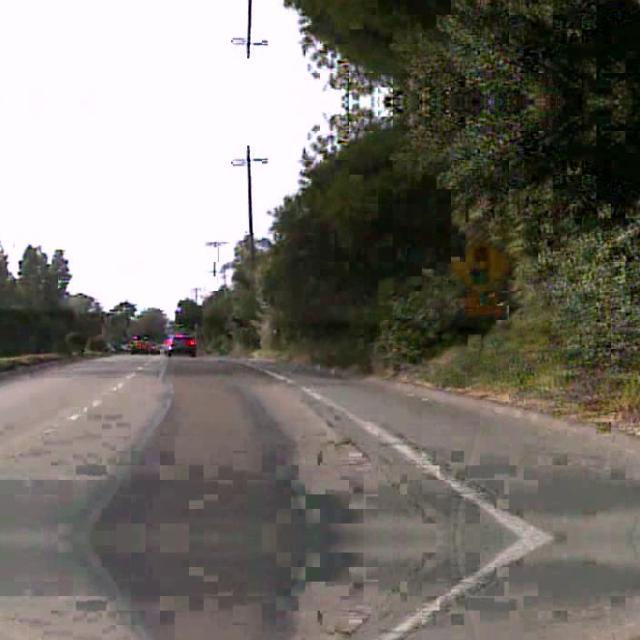signalAhead: (446, 236, 512, 294)
